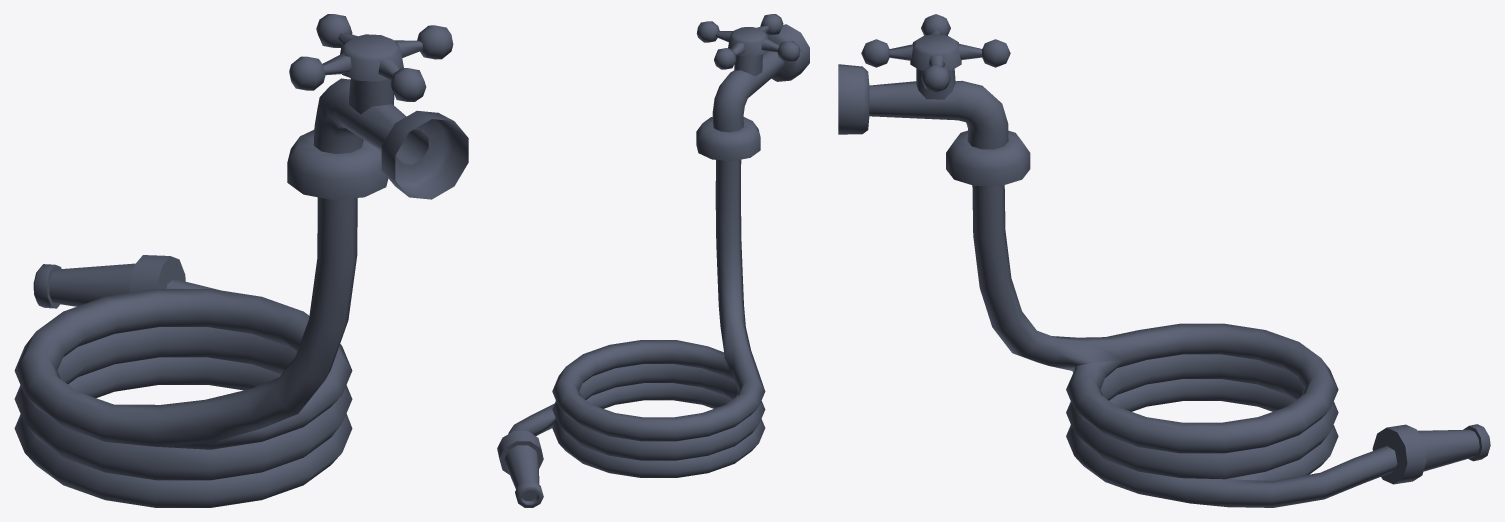
Rendered from WaterHose.FBX.
The picture shows the model from 3 angles, left to right: view 1: azimuth 30°, elevation 25°; view 2: azimuth 150°, elevation 25°; view 3: azimuth 270°, elevation 25°; orthographic projection. The views are drawn at different scales.
Visible parts, largest first — view 1: WaterHose; view 2: WaterHose; view 3: WaterHose.
Boxes of the visible parts, box(x1,y1,x2,y2) form: WaterHose: box(14, 14, 468, 507); WaterHose: box(497, 14, 809, 507); WaterHose: box(838, 14, 1490, 507).
Bounding box in the file's own units: 74.66 × 119 × 169.
